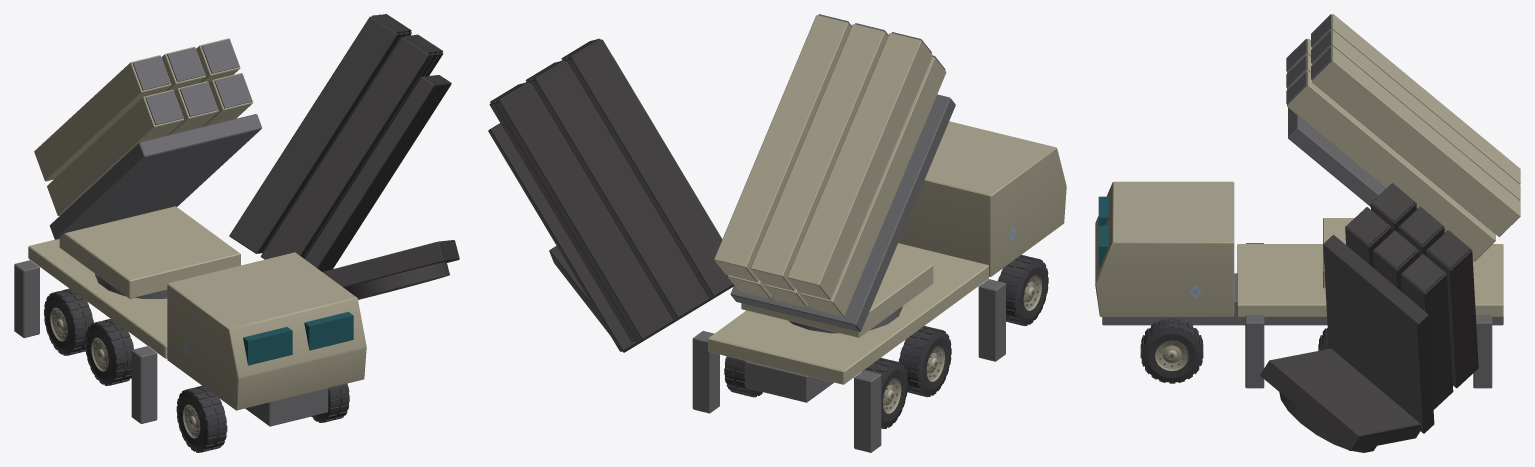
The model's file is samLauncher__hisar_o.glb.
3 renders of one model, left to right at view 1: azimuth 30°, elevation 25°; view 2: azimuth 150°, elevation 25°; view 3: azimuth 270°, elevation 25°, orthographic. The views are drawn at different scales.
Parts seen in each view (by area): view 1: Hull_Mesh, Wreck, Gun_Mesh, Turret_Mesh, Wheel_L2_Mesh, Wheel_L1_Mesh, Wheel_L0_Mesh, Wheel_R2_Mesh; view 2: Gun_Mesh, Wreck, Hull_Mesh, Turret_Mesh, Wheel_L1_Mesh, Wheel_L2_Mesh, Wheel_L0_Mesh, Wheel_R0_Mesh; view 3: Wreck, Hull_Mesh, Gun_Mesh, Wheel_R2_Mesh, Turret_Mesh.
Part boxes in pixels (box(x1,y1,x2,y2)): Hull_Mesh: box(14, 239, 366, 426); Wreck: box(80, 14, 459, 451); Gun_Mesh: box(34, 38, 261, 239); Turret_Mesh: box(59, 206, 240, 298); Wheel_L2_Mesh: box(176, 385, 227, 452); Wheel_L1_Mesh: box(85, 318, 133, 385); Wheel_L0_Mesh: box(44, 288, 93, 355); Wheel_R2_Mesh: box(311, 383, 349, 422); Gun_Mesh: box(714, 14, 955, 331); Wreck: box(488, 38, 951, 428); Hull_Mesh: box(692, 121, 1066, 452); Turret_Mesh: box(741, 255, 933, 337); Wheel_L1_Mesh: box(898, 326, 951, 397); Wheel_L2_Mesh: box(998, 255, 1048, 325); Wheel_L0_Mesh: box(862, 358, 907, 428); Wheel_R0_Mesh: box(724, 356, 762, 397); Wreck: box(1170, 183, 1478, 452); Hull_Mesh: box(1095, 181, 1503, 388); Gun_Mesh: box(1286, 14, 1520, 261); Wheel_R2_Mesh: box(1140, 318, 1203, 383); Turret_Mesh: box(1323, 218, 1354, 288).
Size of what is drawn, in the model's own units: 7.56 by 5.84 by 7.19.
